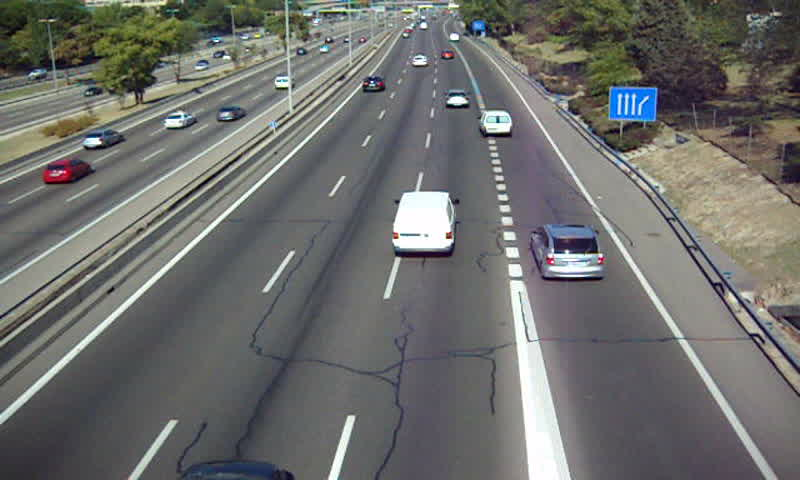car: (532, 226, 605, 280), (442, 89, 472, 109), (362, 76, 385, 94), (410, 52, 429, 67)
van: (393, 191, 455, 256), (479, 111, 513, 138)
